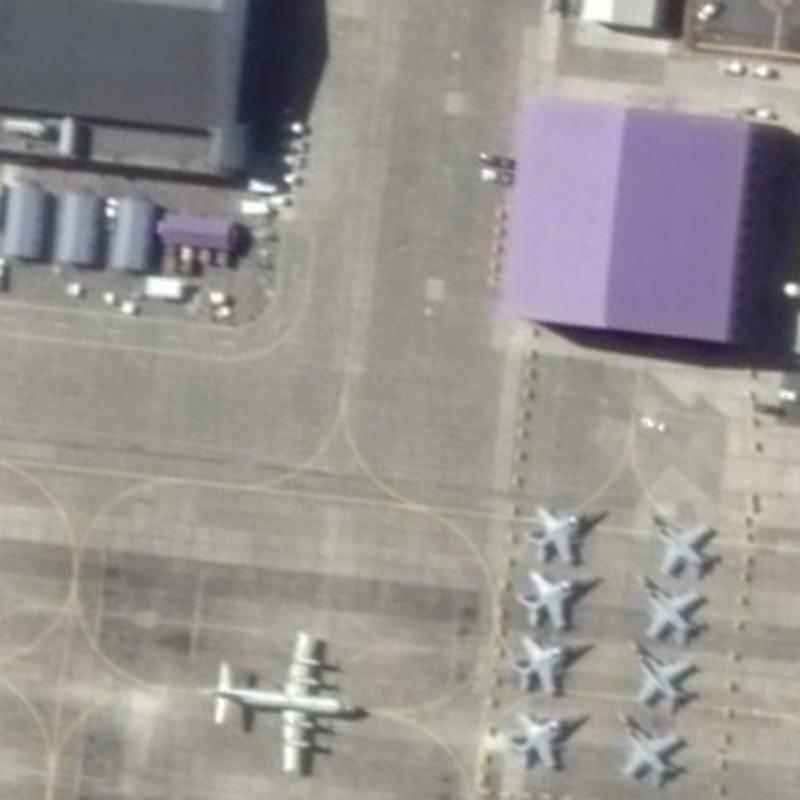A16: (623, 633, 702, 718), (499, 702, 592, 774), (612, 705, 691, 789), (521, 498, 612, 568), (504, 631, 596, 699), (512, 565, 606, 630), (645, 509, 725, 581), (634, 572, 709, 647)
A9: (191, 621, 373, 778)
